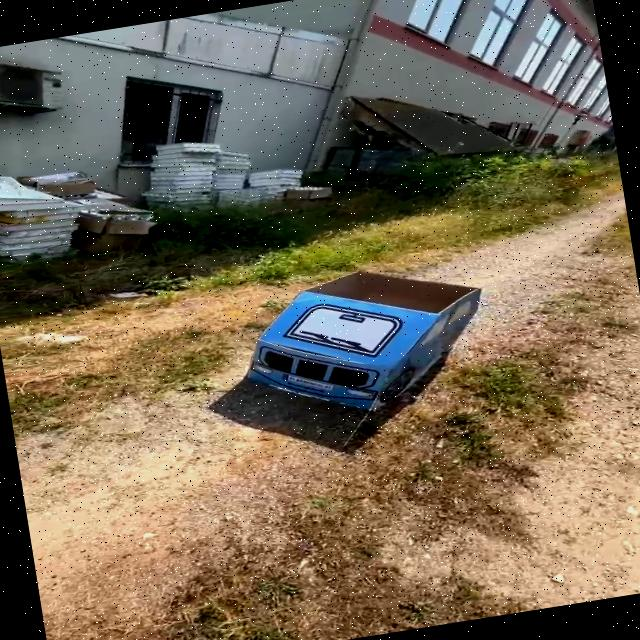blue_car: (195, 235, 506, 466)
